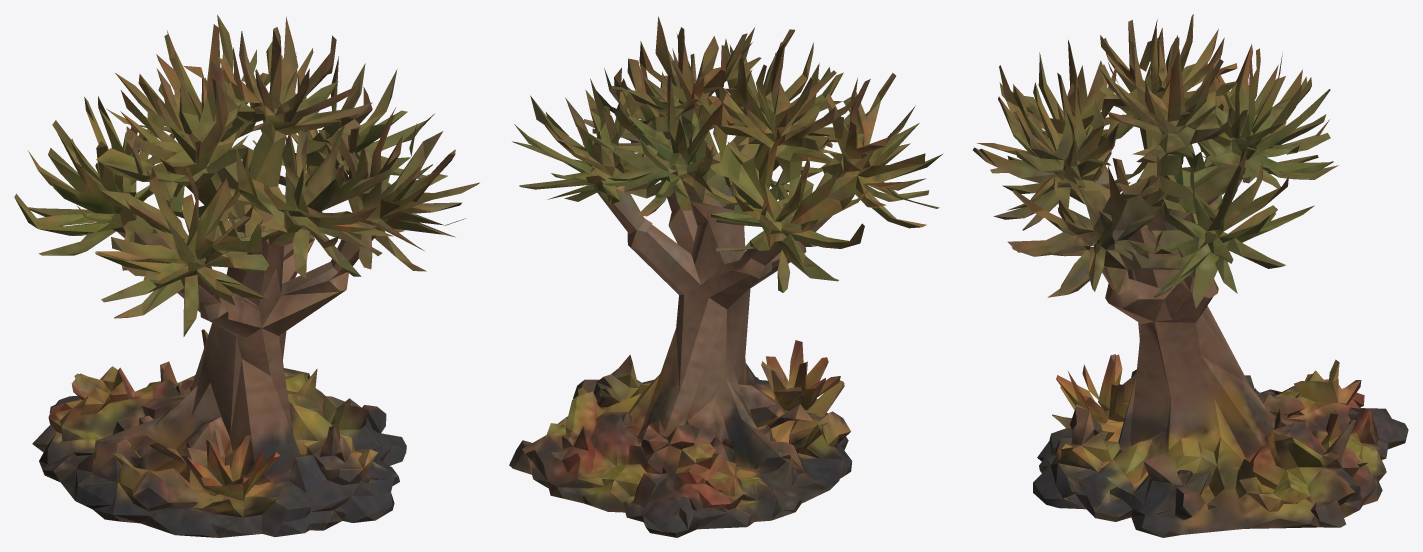
File: shrub_01.glb
The picture shows the model from 3 angles, left to right: view 1: azimuth 30°, elevation 25°; view 2: azimuth 150°, elevation 25°; view 3: azimuth 270°, elevation 25°; orthographic projection. The views are drawn at different scales.
Visible parts, largest first — view 1: shrub_01; view 2: shrub_01; view 3: shrub_01.
Part boxes in pixels (x1,y1,x2,y2): shrub_01: (14,14,479,537); shrub_01: (509,16,943,537); shrub_01: (972,14,1408,537).
Bounding box in the file's own units: 2.56 × 2.8 × 2.55.
Materials: 1 (1 with a texture image).
